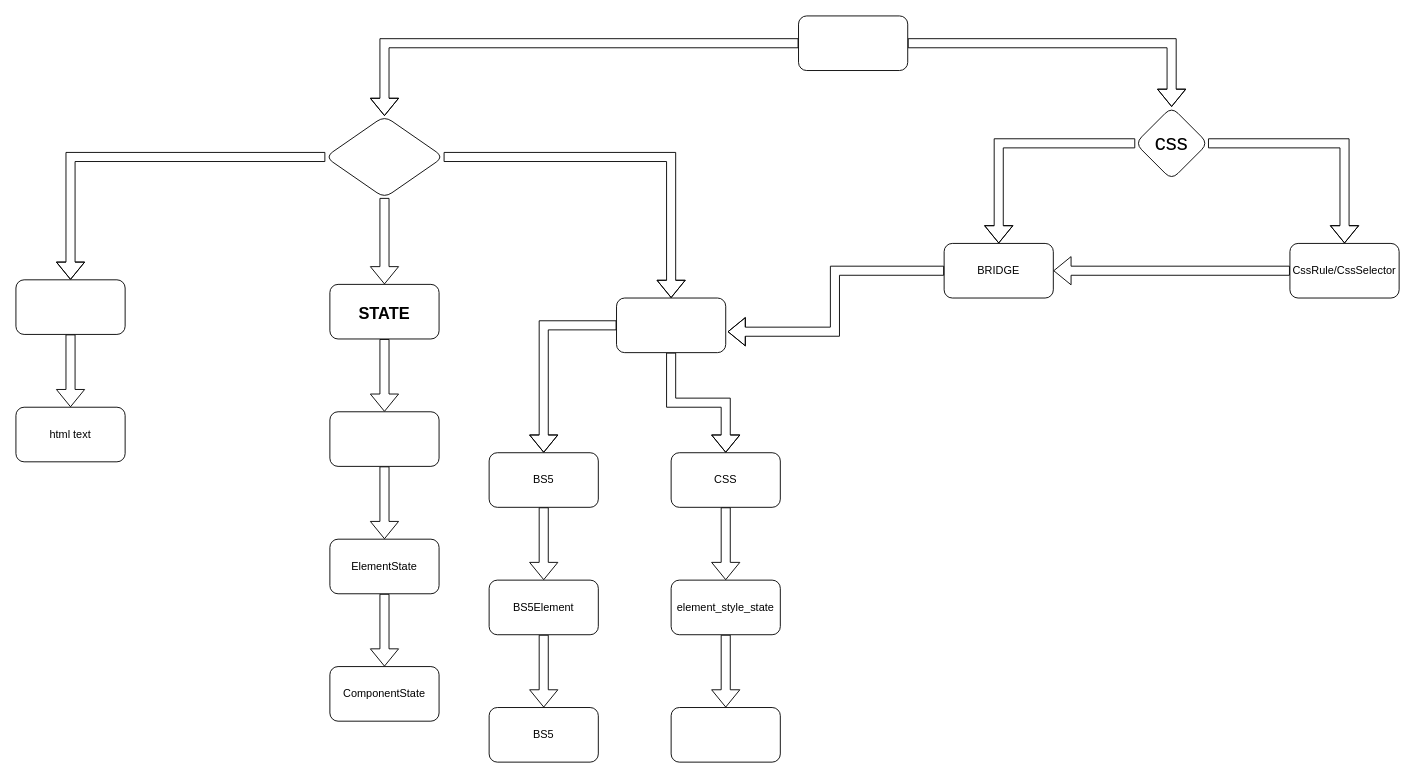
Image size: 1415x778. Some labels were removed from this diagram. Each missing label, with the centre of its shape:
"Component" belongs at point (384, 156).
"ComponentStyle" belongs at point (725, 734).
"shortcuts" belongs at point (853, 43).
"StateProps" belongs at point (384, 438).
"STATIC" belongs at point (70, 306).
"STYLE" belongs at point (671, 325).
